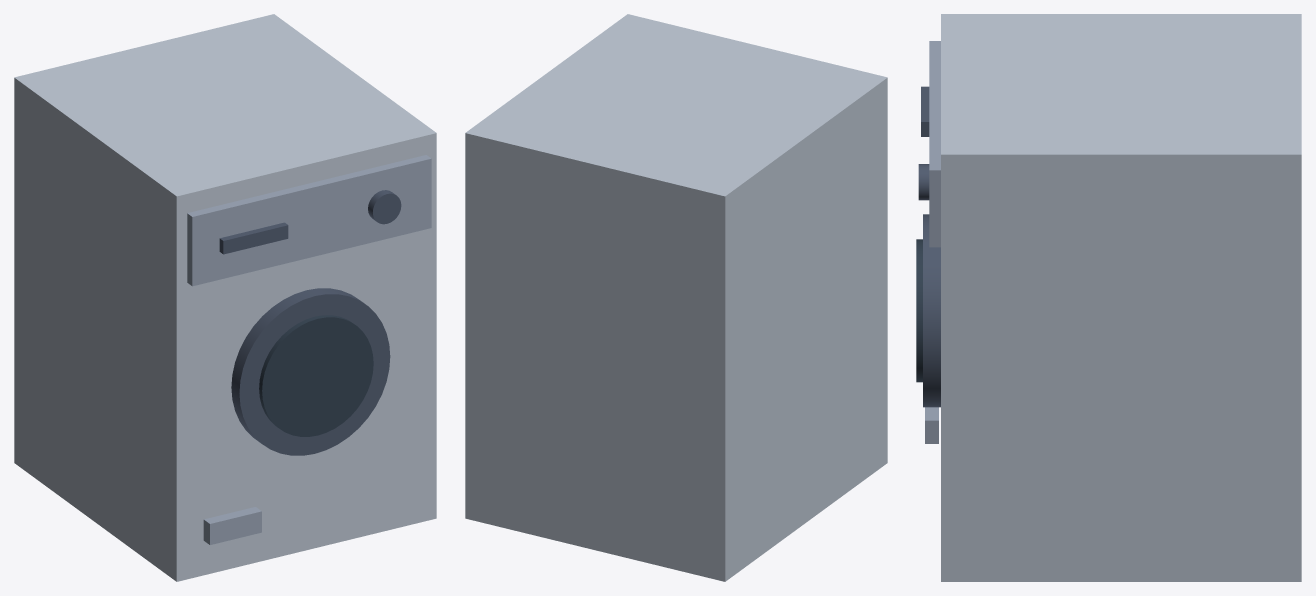
File: washer.glb
The picture shows the model from 3 angles, left to right: view 1: azimuth 30°, elevation 25°; view 2: azimuth 150°, elevation 25°; view 3: azimuth 270°, elevation 25°; orthographic projection. The views are drawn at different scales.
Parts seen in each view (by area): view 1: washer; view 2: washer; view 3: washer.
Boxes of the visible parts, x1,y1,x2,y2 form: washer: [14, 14, 436, 581]; washer: [465, 14, 887, 581]; washer: [916, 14, 1301, 581].
Bounding box in the file's own units: 0.6 × 0.85 × 0.6943.
